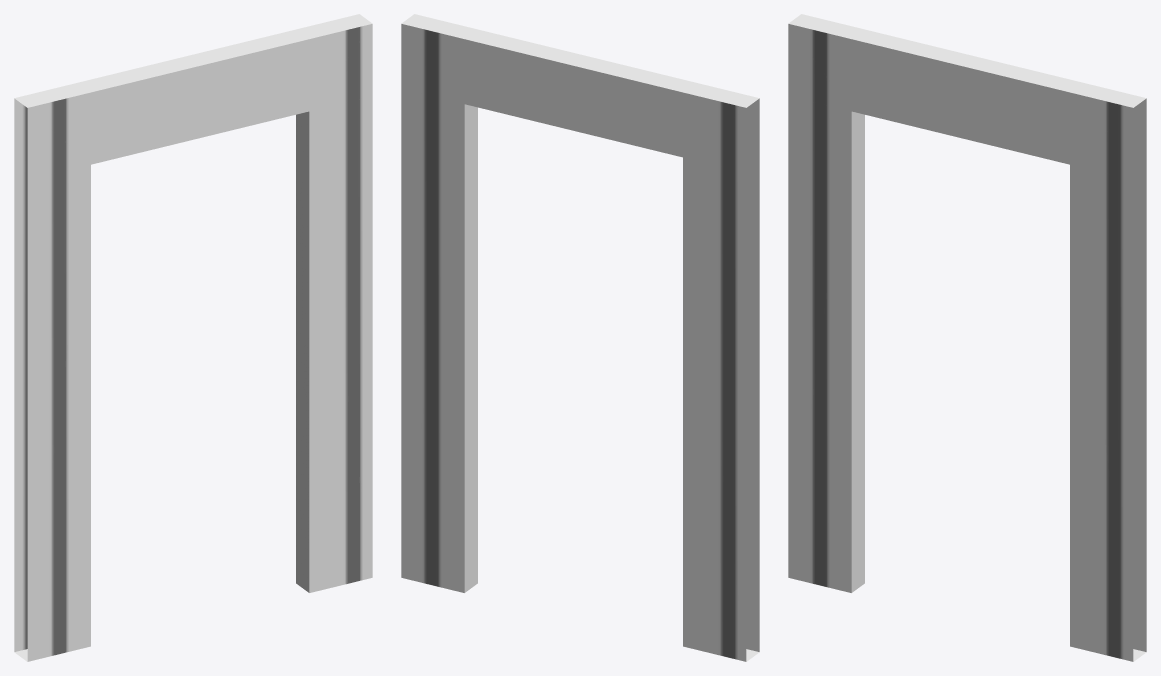
The model's file is SM_WallWithDoor_Var1_150x230.fbx.
The picture shows the model from 3 angles, left to right: view 1: azimuth 30°, elevation 25°; view 2: azimuth 150°, elevation 25°; view 3: azimuth 330°, elevation 25°; orthographic projection.
Parts seen in each view (by area): view 1: SM_WallWithDoor_Var1_150x230; view 2: SM_WallWithDoor_Var1_150x230; view 3: SM_WallWithDoor_Var1_150x230.
Boxes of the visible parts, x1,y1,x2,y2 form: SM_WallWithDoor_Var1_150x230: (14,14,372,661); SM_WallWithDoor_Var1_150x230: (401,14,759,661); SM_WallWithDoor_Var1_150x230: (788,14,1146,661).
Bounding box in the file's own units: 150 × 230 × 10.
